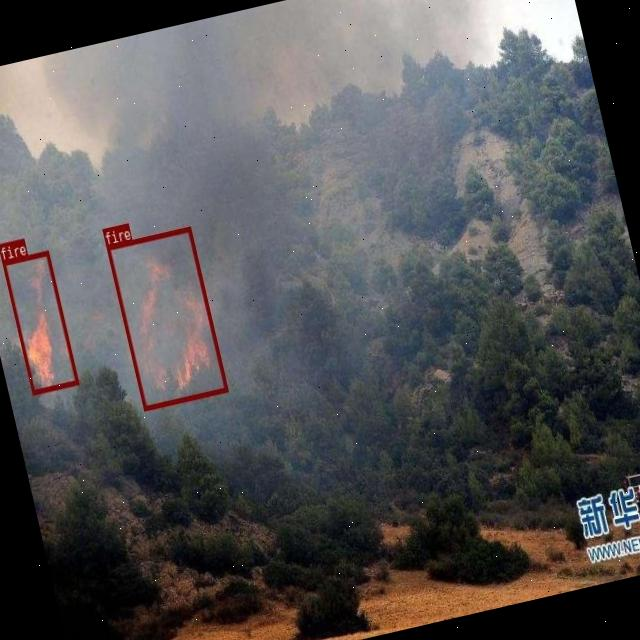fire: (106, 226, 227, 410), (1, 250, 78, 394)
